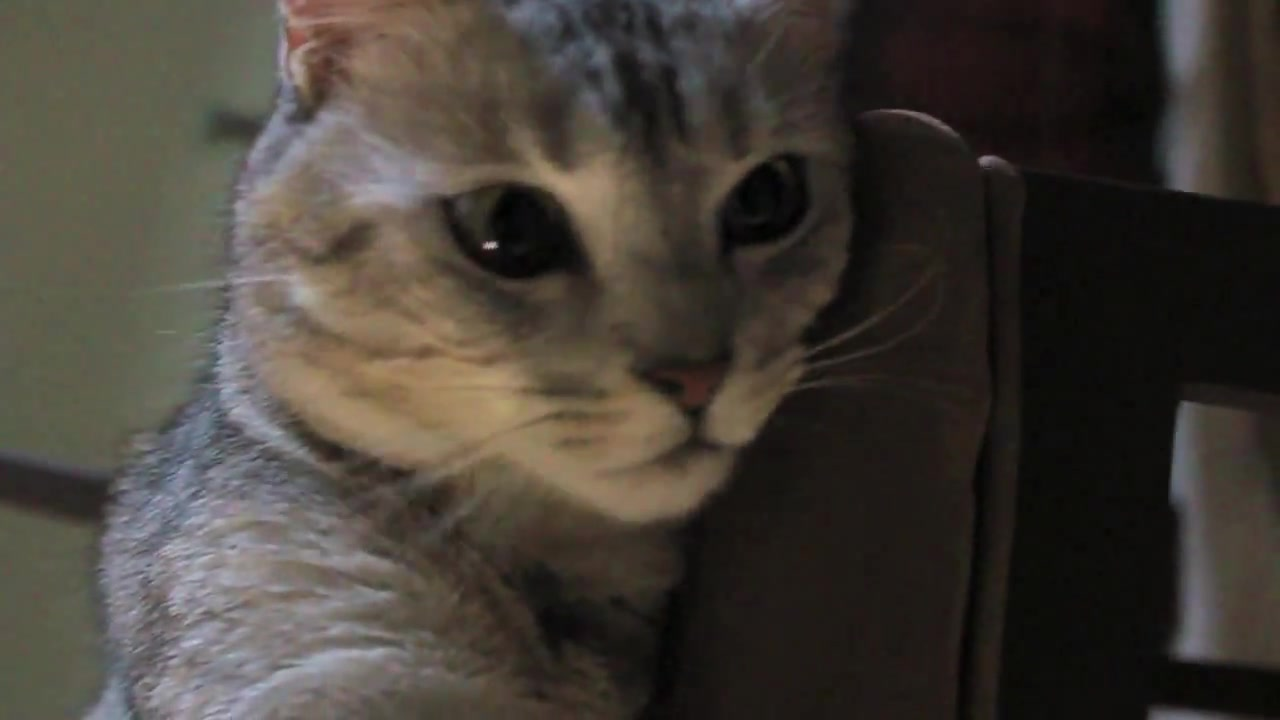cat: (61, 4, 877, 720)
